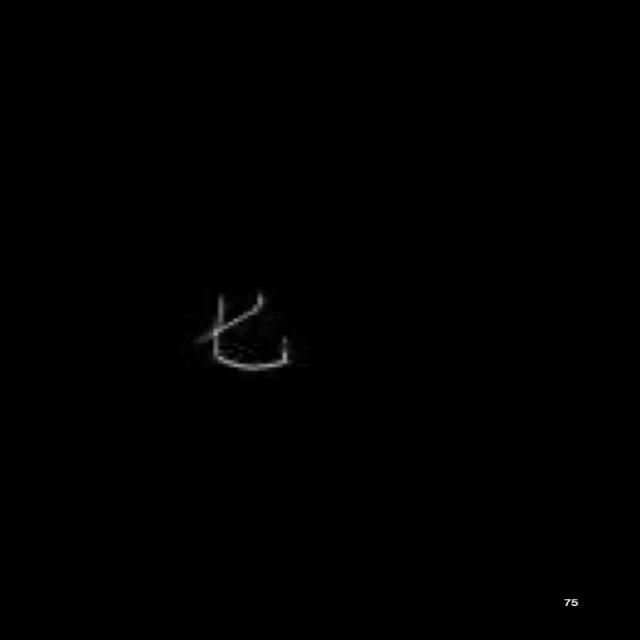7 -seven-: (167, 285, 294, 382)
